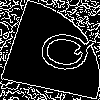Q: (24, 25, 97, 77)
